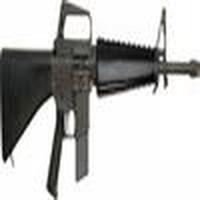gun: (1, 36, 199, 152)
